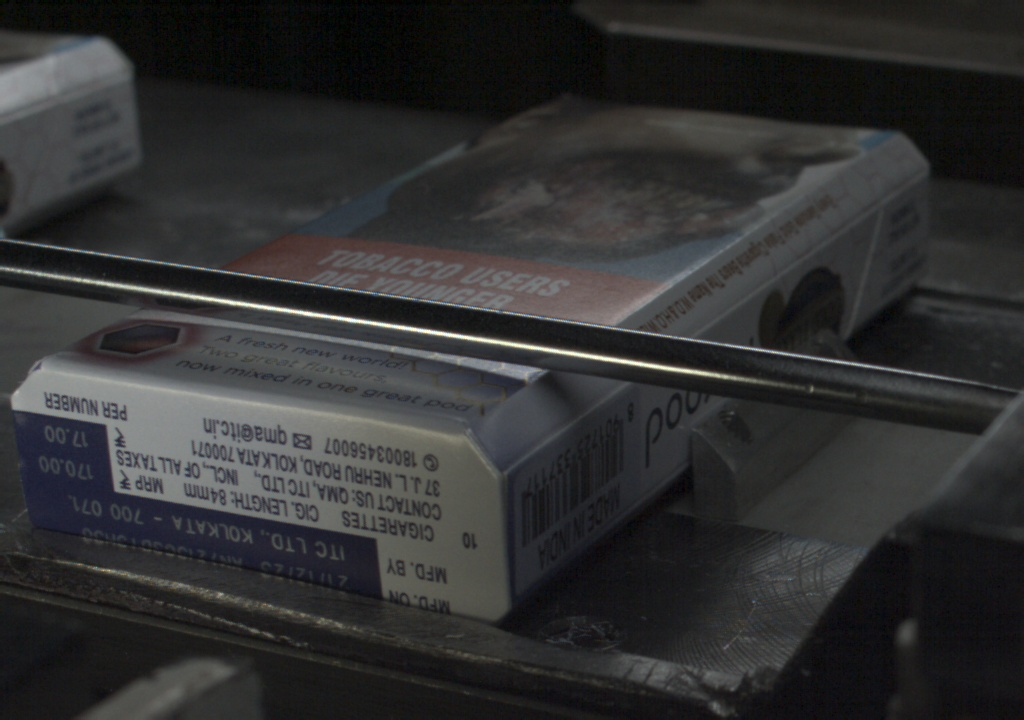g_bottom: (11, 363, 511, 624)
g_label: (22, 490, 382, 599)
g_lmiter: (691, 269, 787, 337), (787, 206, 872, 267)
g_miter: (875, 159, 930, 204)
ng_lmiter: (503, 425, 563, 472)
price: (21, 418, 113, 488)
